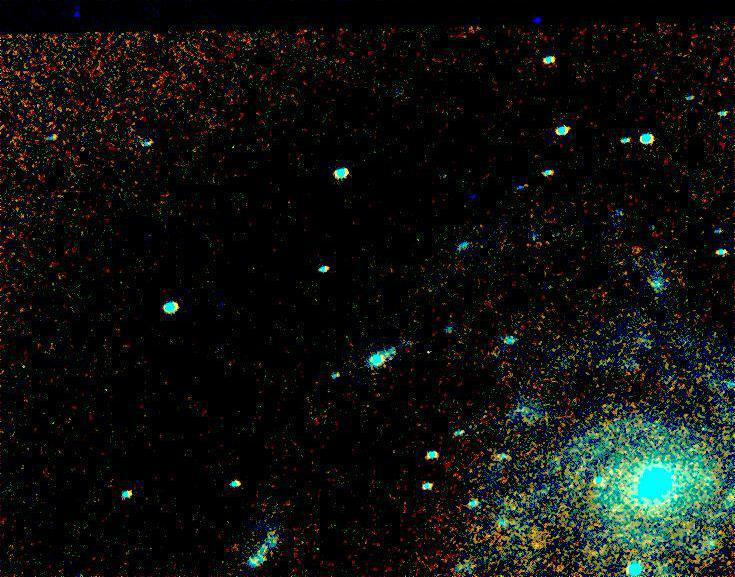star: (416, 338, 446, 368)
